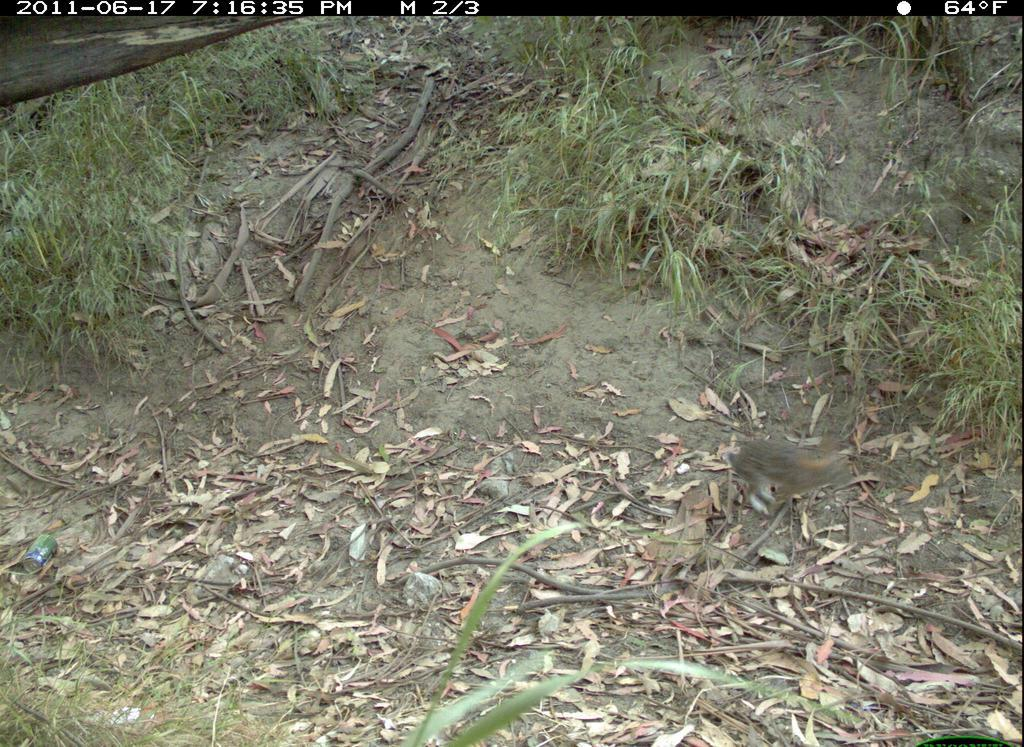rabbit: (726, 434, 877, 529)
